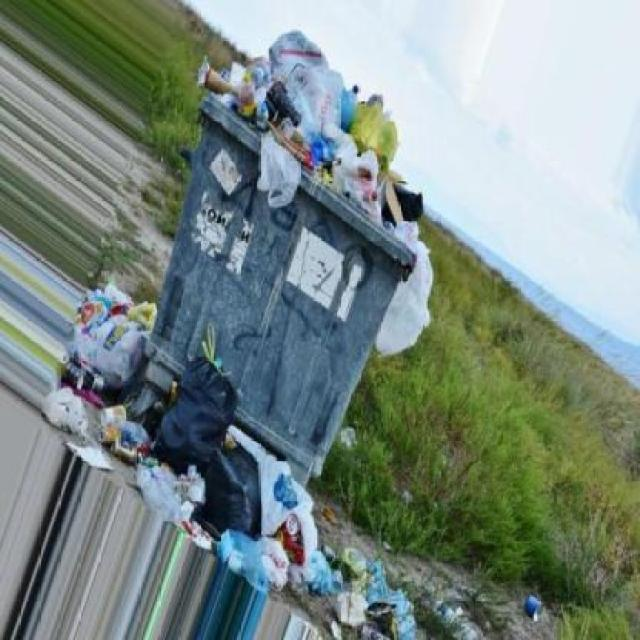garbage: (123, 340, 306, 527), (205, 38, 405, 200), (232, 511, 396, 616), (69, 286, 139, 457)
